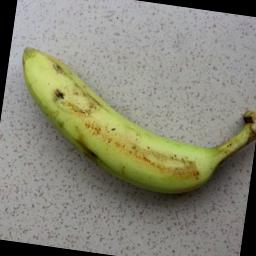Banana Ripe: (0, 40, 256, 233)
